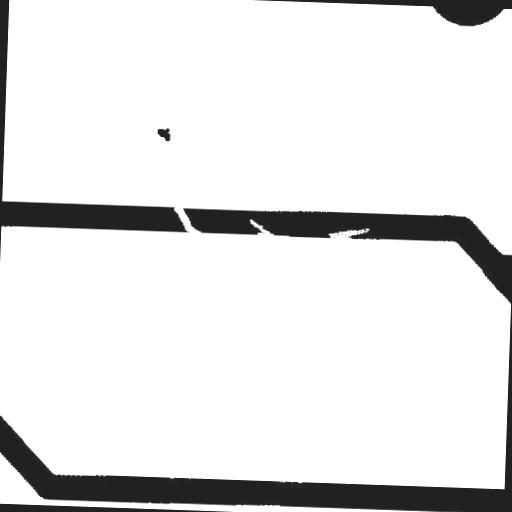copper: (148, 119, 178, 148)
mousebite: (320, 218, 376, 248), (240, 210, 284, 244)
open: (164, 195, 210, 242)
